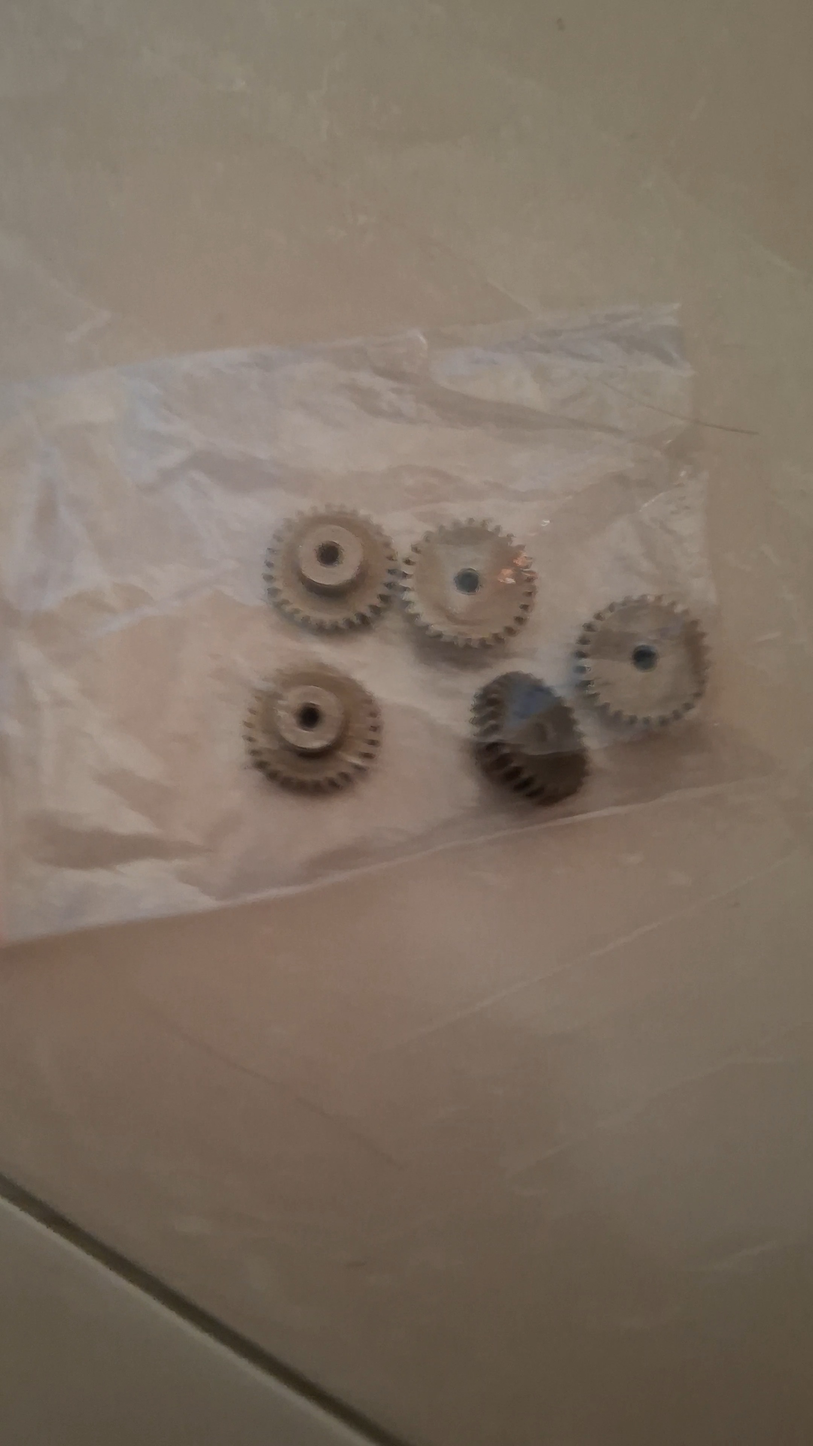spur gear: (402, 519, 536, 648), (244, 666, 381, 792), (576, 596, 707, 726), (265, 509, 398, 631), (472, 671, 588, 803)
